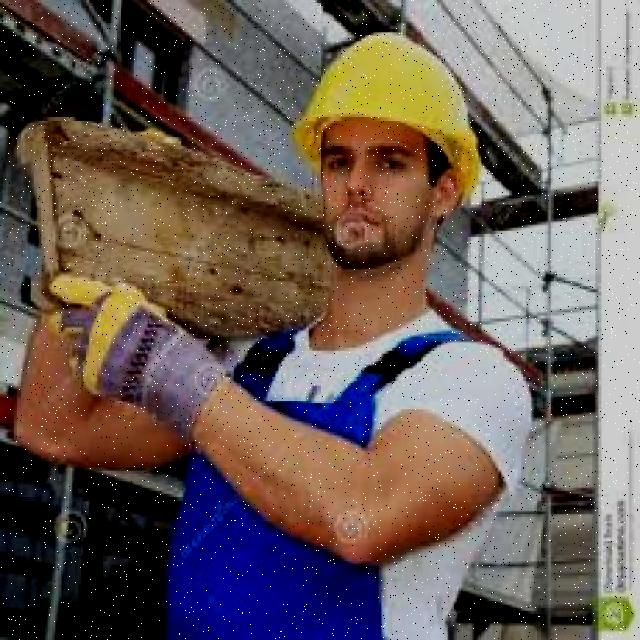Gloves: (37, 254, 208, 428)
Helmet: (290, 30, 501, 164)
